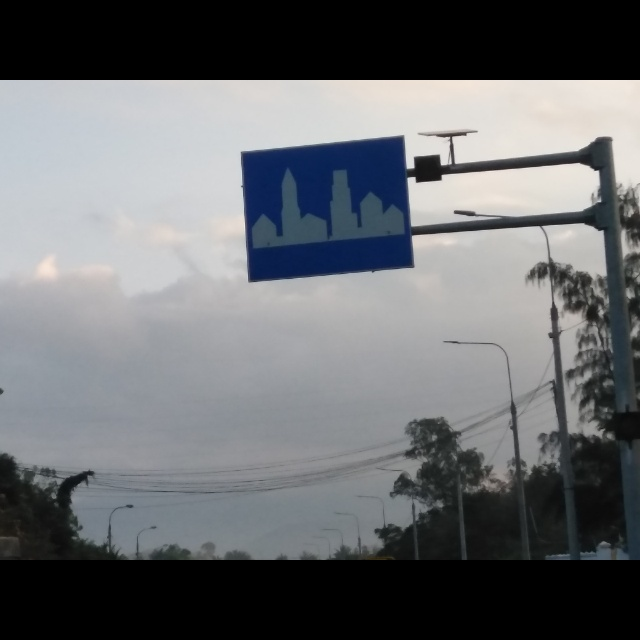Khu đông dân cư: (240, 136, 418, 281)
